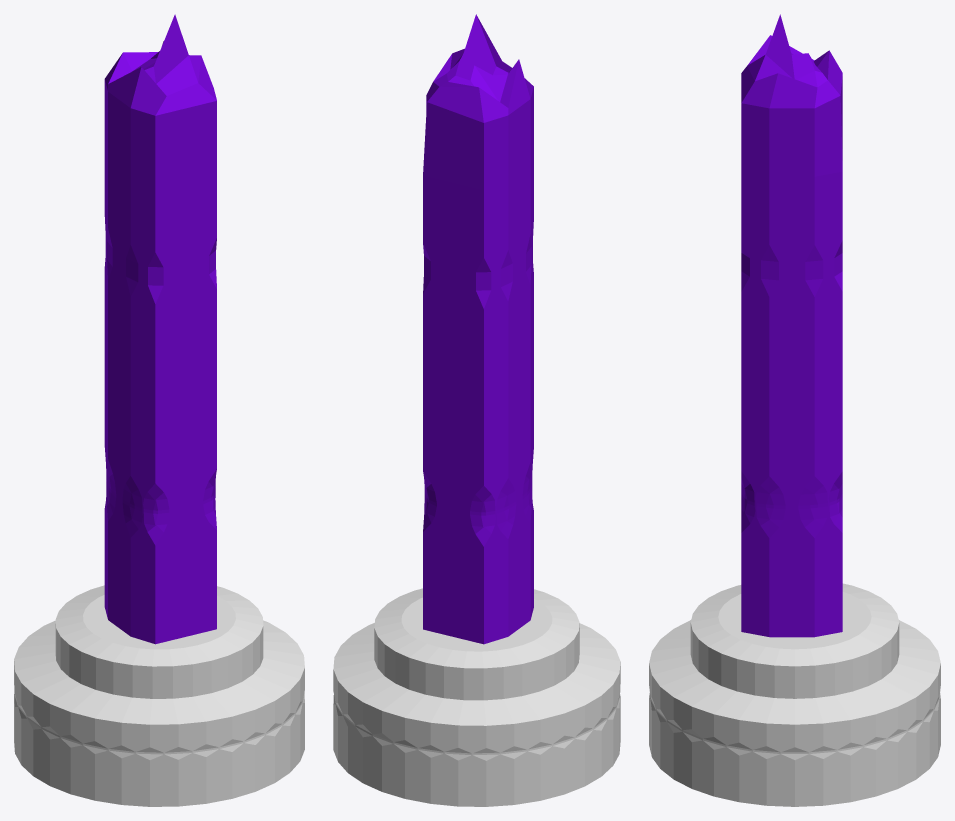
Rendered from crystalpole.glb.
3 renders of one model, left to right at view 1: azimuth 30°, elevation 25°; view 2: azimuth 150°, elevation 25°; view 3: azimuth 270°, elevation 25°, orthographic.
Parts seen in each view (by area): view 1: Cube, Cylinder; view 2: Cube, Cylinder; view 3: Cube, Cylinder.
Part boxes in pixels (x1,y1,x2,y2): Cube: (104,14,216,644); Cylinder: (14,585,304,806); Cube: (423,14,533,644); Cylinder: (333,588,620,806); Cube: (741,14,842,637); Cylinder: (649,583,940,806).
Bounding box in the file's own units: 2 × 5.63 × 2.
